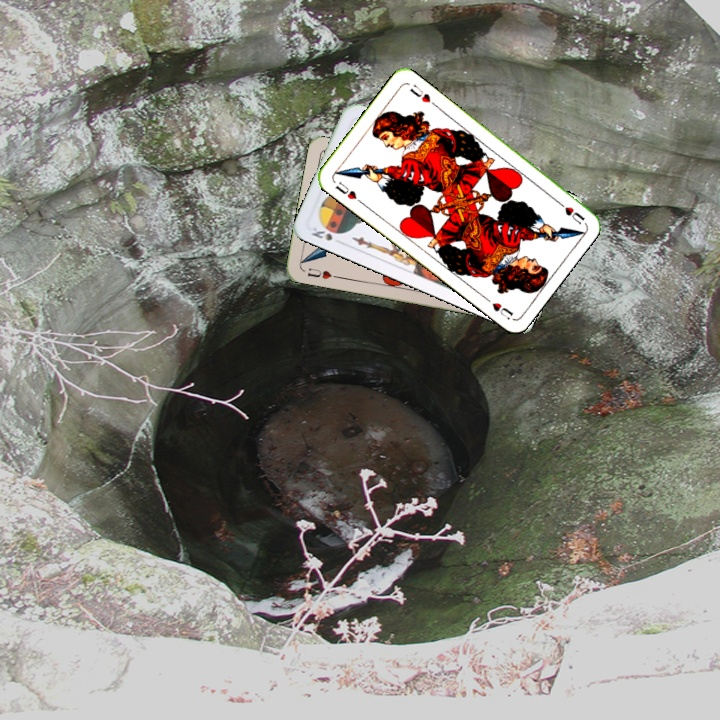HU: (552, 196, 587, 227), (331, 178, 365, 206), (304, 264, 340, 282)
SK: (307, 221, 335, 243)
